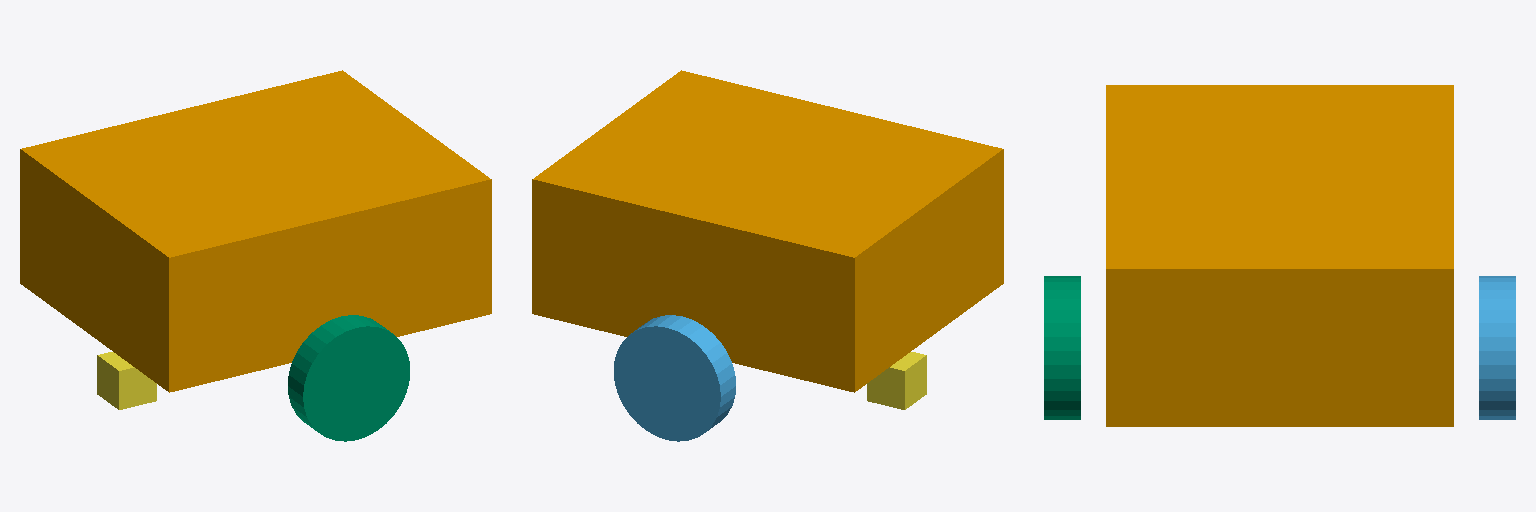
The robot description file, URDF, robot "Fictional differential rover":
<?xml version="1.0"?>
<!-- Fictional simulation fixture; not a rated hardware model. Configure wheel radius 0.05 m, track width 0.30 m and reviewed acceleration limits during import. -->
<robot name="Fictional differential rover">
  <link name="base_link">
    <visual>
      <origin xyz="0 0 .12" />
      <geometry>
        <box size=".3 .24 .12" />
      </geometry>
    </visual>
    <collision>
      <origin xyz="0 0 .12" />
      <geometry>
        <box size=".3 .24 .12" />
      </geometry>
    </collision>
    <inertial>
      <origin xyz="0 0 .12" />
      <mass value="5" />
      <inertia ixx=".01" ixy="0" ixz="0" iyy=".01" iyz="0" izz=".01" />
    </inertial>
  </link>
  <link name="left_wheel_link">
    <visual>
      <origin rpy="1.57079632679 0 0" />
      <geometry>
        <cylinder radius=".05" length=".025" />
      </geometry>
    </visual>
    <collision>
      <origin rpy="1.57079632679 0 0" />
      <geometry>
        <cylinder radius=".05" length=".025" />
      </geometry>
    </collision>
    <inertial>
      <mass value=".2" />
      <inertia ixx=".001" ixy="0" ixz="0" iyy=".001" iyz="0" izz=".001" />
    </inertial>
  </link>
  <joint name="left_wheel" type="continuous">
    <parent link="base_link" />
    <child link="left_wheel_link" />
    <origin xyz="0 0.15 .05" />
    <axis xyz="0 1 0" />
    <limit effort="20" velocity="10" />
  </joint>
  <link name="right_wheel_link">
    <visual>
      <origin rpy="1.57079632679 0 0" />
      <geometry>
        <cylinder radius=".05" length=".025" />
      </geometry>
    </visual>
    <collision>
      <origin rpy="1.57079632679 0 0" />
      <geometry>
        <cylinder radius=".05" length=".025" />
      </geometry>
    </collision>
    <inertial>
      <mass value=".2" />
      <inertia ixx=".001" ixy="0" ixz="0" iyy=".001" iyz="0" izz=".001" />
    </inertial>
  </link>
  <joint name="right_wheel" type="continuous">
    <parent link="base_link" />
    <child link="right_wheel_link" />
    <origin xyz="0 -0.15 .05" />
    <axis xyz="0 1 0" />
    <limit effort="20" velocity="10" />
  </joint>
  <link name="rear_support">
    <visual>
      <origin xyz="0 0 0" />
      <geometry>
        <box size=".035 .035 .035" />
      </geometry>
    </visual>
    <collision>
      <origin xyz="0 0 0" />
      <geometry>
        <box size=".035 .035 .035" />
      </geometry>
    </collision>
    <inertial>
      <origin xyz="0 0 0" />
      <mass value="0.1" />
      <inertia ixx=".01" ixy="0" ixz="0" iyy=".01" iyz="0" izz=".01" />
    </inertial>
  </link>
  <joint name="support_mount" type="fixed">
    <parent link="base_link" />
    <child link="rear_support" />
    <origin xyz="-.12 0 .0175" />
    <axis xyz="0 0 1" />
  </joint>
</robot>

--- Render facts (derived) ---
Views: 3 orthographic renders of the robot side by side, from view 1: azimuth 30°, elevation 25°; view 2: azimuth 150°, elevation 25°; view 3: azimuth 270°, elevation 25°.
Model Fictional differential rover with 4 links and 3 joints (2 continuous, 1 fixed), rooted at base_link, posed all joints at 0.
Links seen in each view (by area): view 1: base_link, right_wheel_link, rear_support; view 2: base_link, left_wheel_link, rear_support; view 3: base_link, left_wheel_link, right_wheel_link.
Boxes of the visible links, box(x1,y1,x2,y2) form: base_link: box(20, 70, 491, 392); right_wheel_link: box(288, 315, 409, 441); rear_support: box(97, 352, 156, 409); base_link: box(532, 70, 1003, 392); left_wheel_link: box(614, 315, 735, 441); rear_support: box(867, 352, 926, 409); base_link: box(1106, 85, 1453, 426); left_wheel_link: box(1479, 276, 1515, 419); right_wheel_link: box(1044, 276, 1080, 419).
Bounding box of the posed robot: 0.3 × 0.325 × 0.18 m (x, y, z).
Geometry: primitives only (box / cylinder / sphere), no mesh files.
